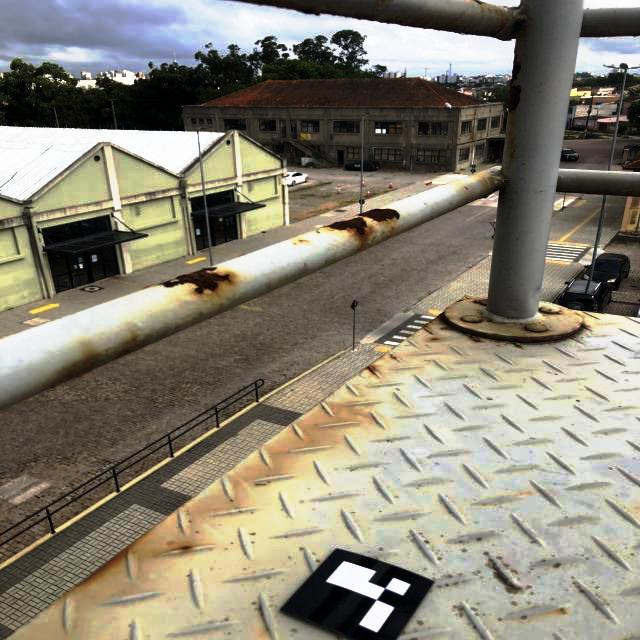Corrosion: (70, 540, 136, 591), (327, 208, 400, 235), (159, 267, 229, 294), (508, 55, 523, 113), (177, 544, 192, 551), (468, 336, 480, 342), (367, 364, 374, 374), (512, 343, 522, 347), (475, 0, 484, 4)
